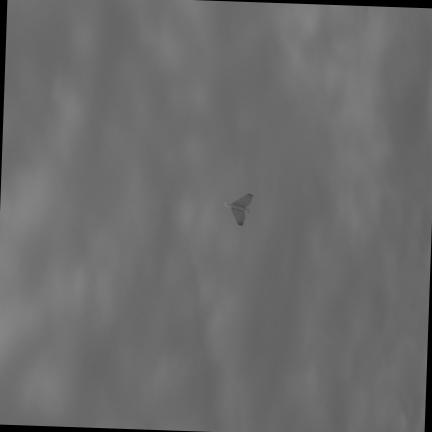Shahed: (225, 192, 253, 224)
